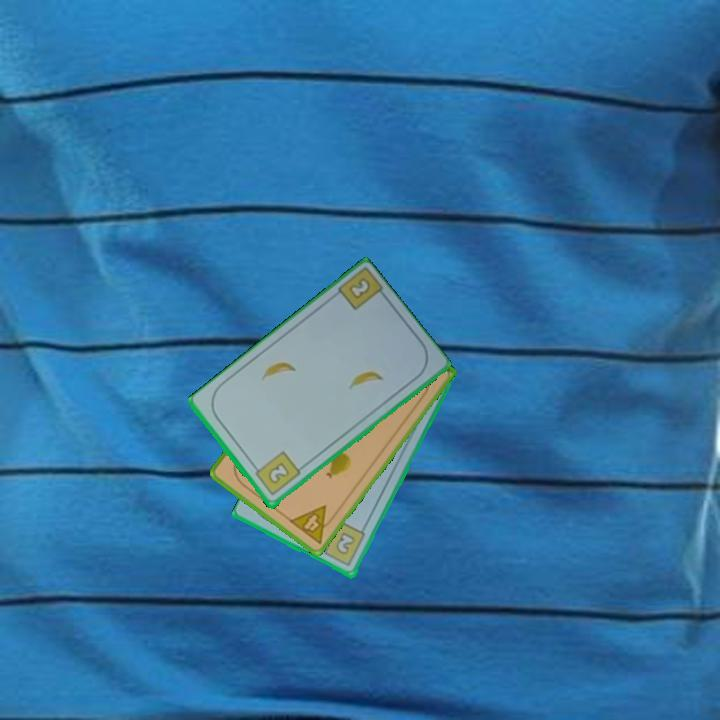2b: (249, 448, 303, 499), (316, 518, 368, 570), (345, 274, 374, 303)
4p: (285, 502, 340, 547)
